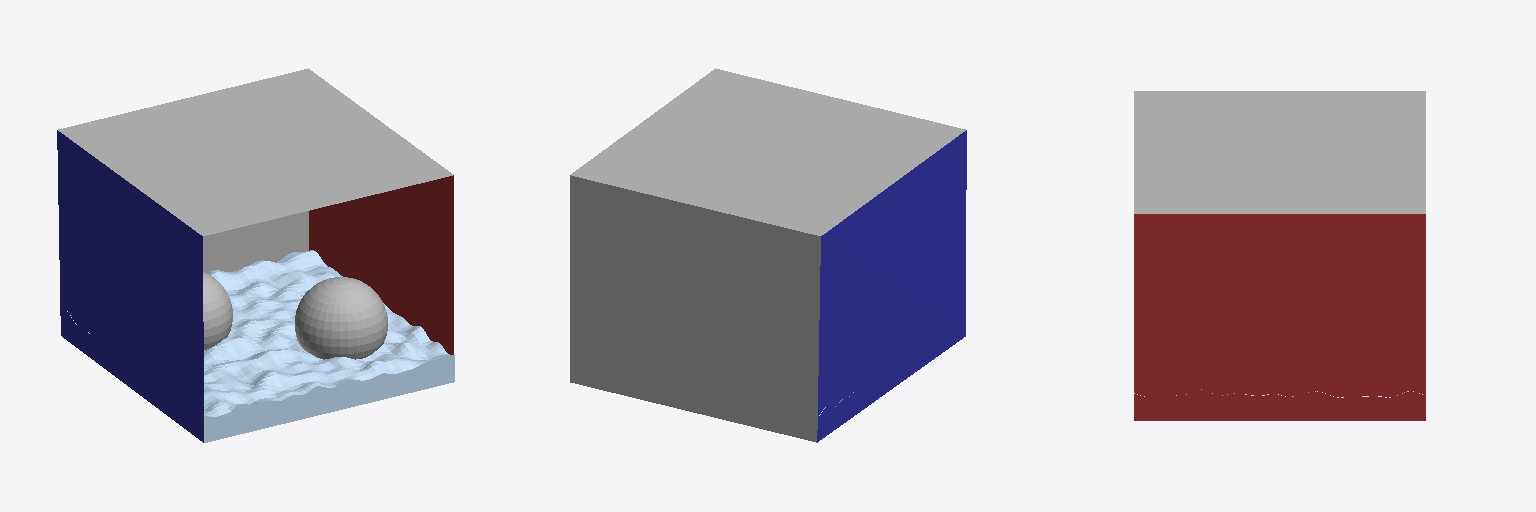
File: cornellbox_water.obj
The picture shows the model from 3 angles: view 1: azimuth 30°, elevation 25°; view 2: azimuth 150°, elevation 25°; view 3: azimuth 270°, elevation 25°; orthographic projection.
Visible parts, largest first — view 1: ceiling, leftWall, water, rightWall, rightSphere, backWall, leftSphere; view 2: backWall, ceiling, leftWall; view 3: rightWall, ceiling.
Part boxes in pixels (left/top/right/bottom): ceiling: left=58, top=68, right=452, bottom=235; leftWall: left=57, top=130, right=203, bottom=442; water: left=67, top=250, right=454, bottom=442; rightWall: left=309, top=175, right=453, bottom=354; rightSphere: left=295, top=277, right=387, bottom=359; backWall: left=203, top=211, right=308, bottom=272; leftSphere: left=203, top=272, right=232, bottom=349; backWall: left=570, top=175, right=820, bottom=442; ceiling: left=571, top=68, right=965, bottom=235; leftWall: left=817, top=130, right=966, bottom=442; rightWall: left=1134, top=214, right=1425, bottom=420; ceiling: left=1134, top=91, right=1425, bottom=213.
Size of the model in its own units: 2.02 by 1.59 by 2.03.